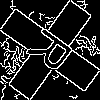R: (25, 25, 83, 81)
